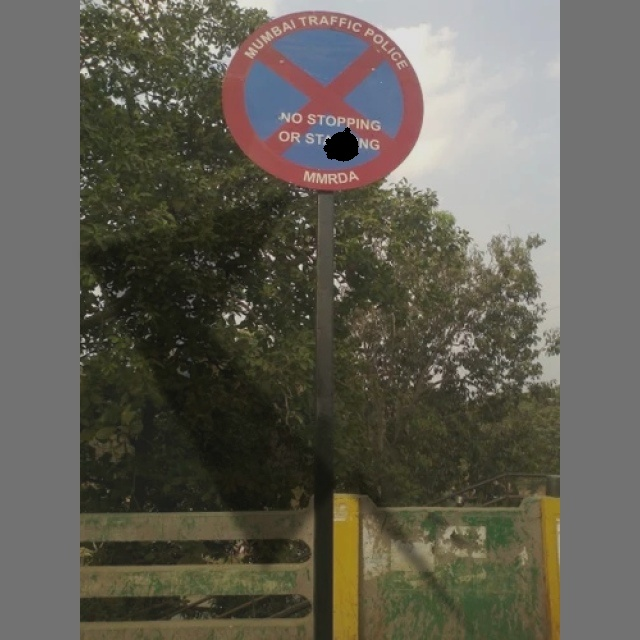No_Stopping_or_Standing: (224, 7, 432, 202)
